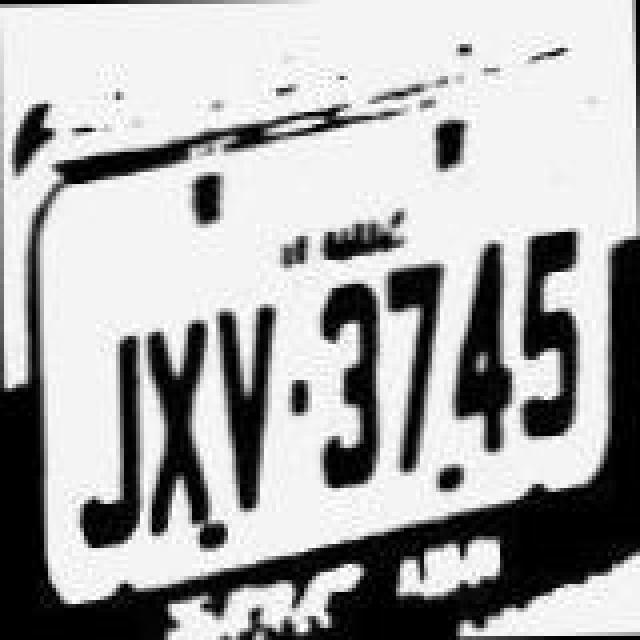3: (314, 266, 390, 494)
4: (450, 236, 522, 456)
5: (518, 218, 598, 438)
7: (380, 252, 456, 472)
J: (72, 324, 144, 548)
V: (212, 294, 284, 510)
X: (138, 314, 214, 538)
